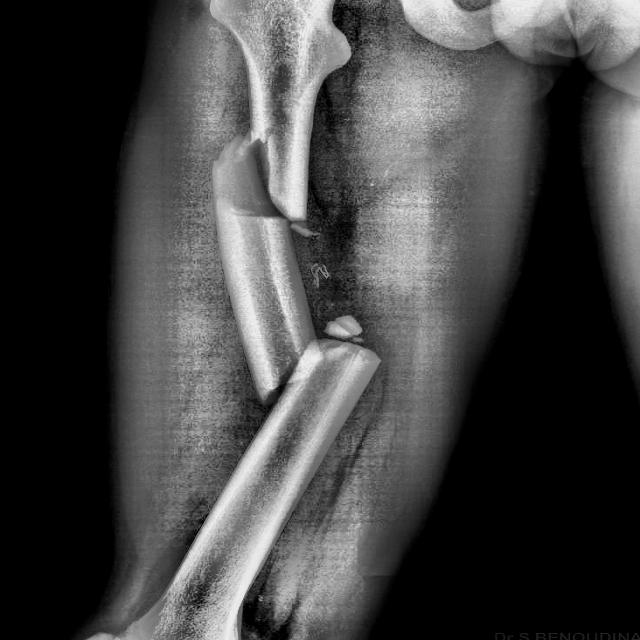messed_up_angle: (210, 127, 319, 239), (258, 313, 384, 408)
